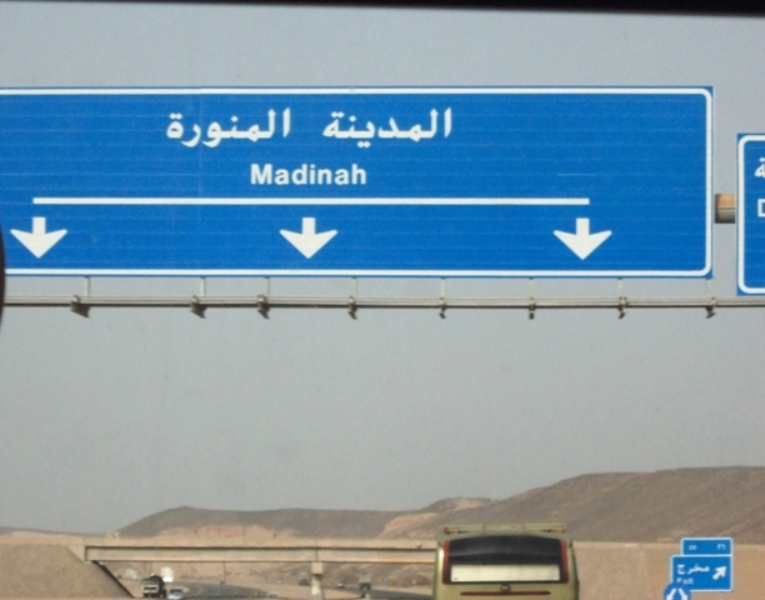text: (177, 107, 192, 151), (193, 107, 208, 151), (209, 107, 224, 151), (225, 107, 240, 151), (241, 107, 256, 151), (257, 107, 272, 151), (273, 107, 288, 151), (337, 108, 352, 149), (353, 108, 368, 149), (369, 108, 384, 149), (385, 108, 400, 149), (401, 108, 416, 149), (417, 108, 432, 149), (433, 108, 448, 149), (323, 108, 336, 149), (353, 162, 369, 187), (167, 107, 176, 151), (257, 162, 272, 187), (273, 162, 288, 187), (289, 162, 304, 187), (305, 162, 320, 187), (321, 162, 336, 187), (337, 162, 352, 187), (753, 149, 764, 182), (753, 192, 765, 222), (247, 162, 256, 187), (673, 574, 688, 588), (689, 563, 704, 576), (289, 107, 293, 151), (449, 108, 453, 149), (676, 563, 688, 576), (689, 574, 697, 588), (749, 149, 752, 182), (705, 563, 712, 576), (689, 544, 698, 551), (721, 543, 727, 552), (717, 543, 720, 552), (687, 544, 688, 551)
